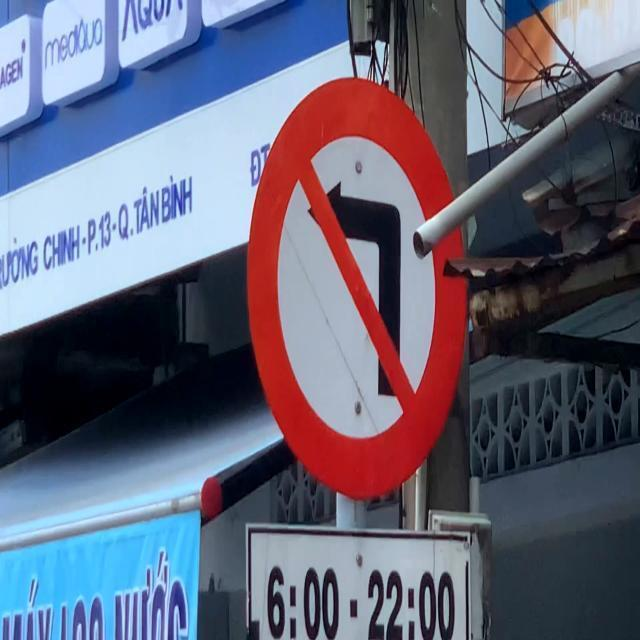123a-cam-re-trai: (246, 76, 470, 496)
